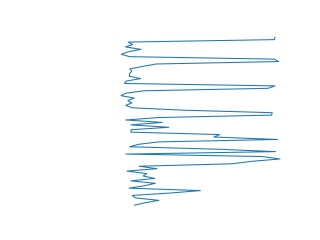crevasseRiverChannelBar: (120, 161, 277, 207)
majorRiverBedLagDeposit: (122, 123, 285, 165)
majorRiverChannelBar: (117, 33, 282, 119)
